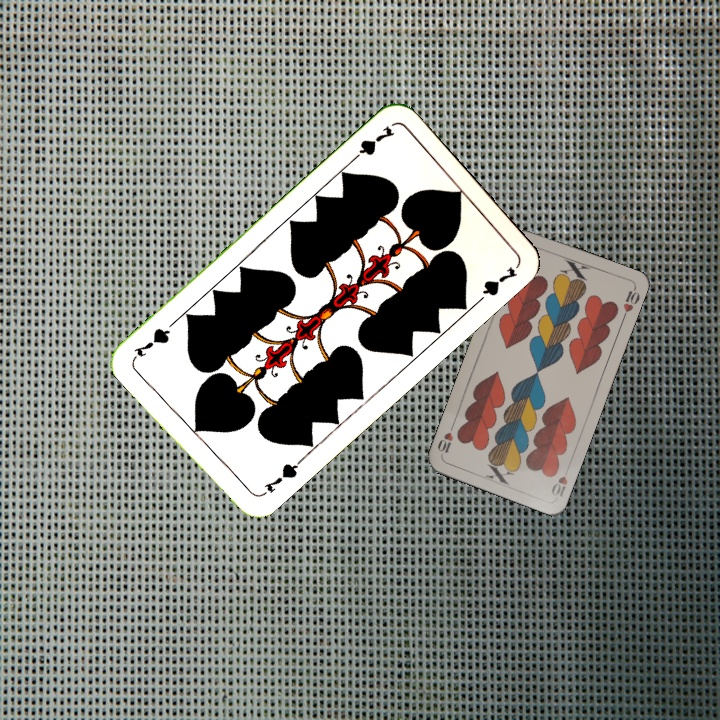G7: (346, 122, 398, 166), (255, 456, 304, 500)
H10: (547, 462, 572, 500)
